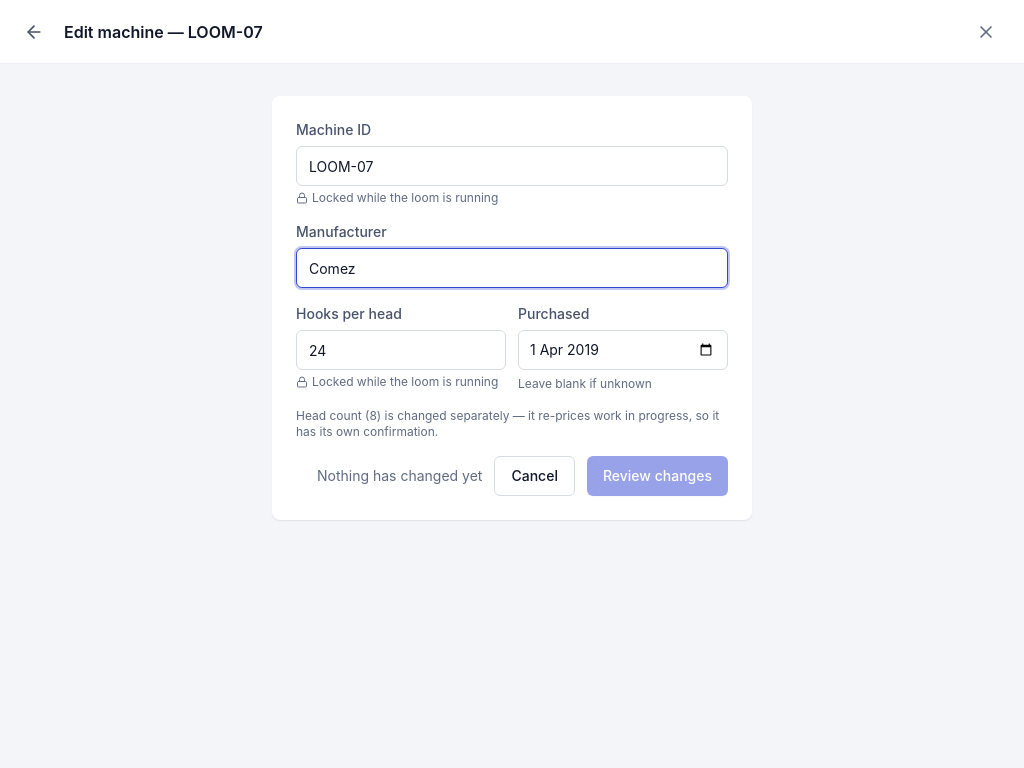
Test: when the loom is not free › still lets the manufacturer be corrected
Replace the text in the field labelled "Manufacturer" with "Jakob Muller": (512, 268) [296,248,728,288]
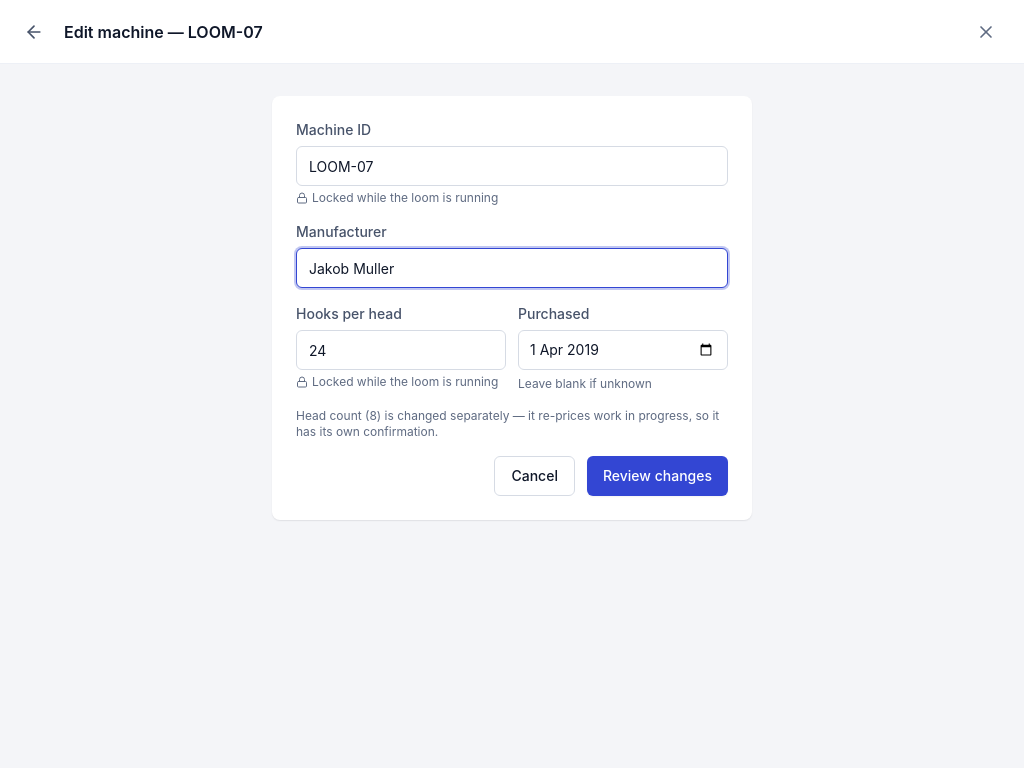
expect the button "Review changes" is enabled: met, box [587,456,728,496]
